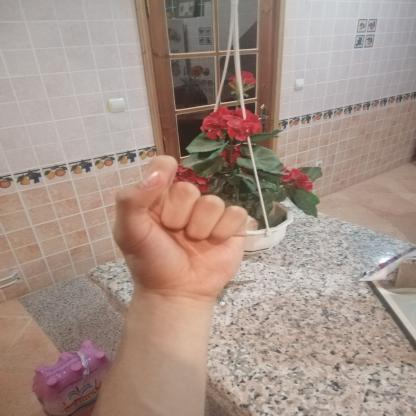FAA: (97, 144, 261, 314)
